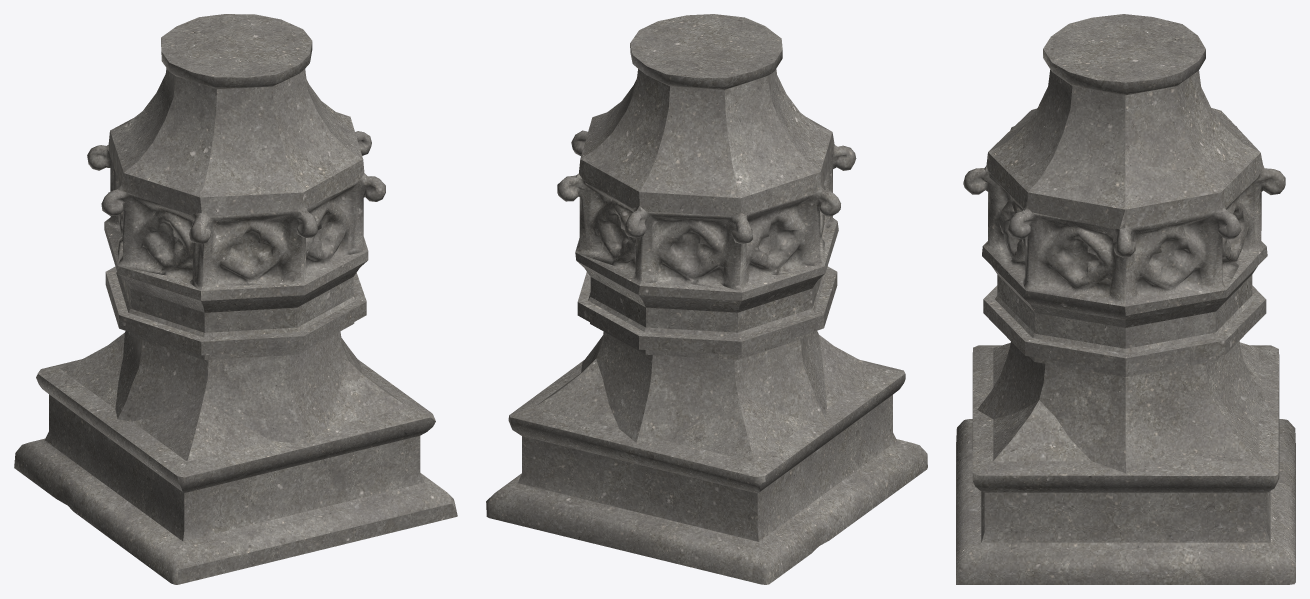
Rendered from SM_Pillar_Bot.fbx.
3 views of the same model, side by side, from view 1: azimuth 30°, elevation 25°; view 2: azimuth 150°, elevation 25°; view 3: azimuth 270°, elevation 25° (orthographic). The views are drawn at different scales.
Visible parts, largest first — view 1: SM_Pillar_Bot_LOD0; view 2: SM_Pillar_Bot_LOD0; view 3: SM_Pillar_Bot_LOD0.
Boxes of the visible parts, box(x1,y1,x2,y2) form: SM_Pillar_Bot_LOD0: box(14, 14, 457, 584); SM_Pillar_Bot_LOD0: box(486, 14, 927, 584); SM_Pillar_Bot_LOD0: box(956, 14, 1295, 584).
Bounding box in the file's own units: 296 × 294 × 444.
